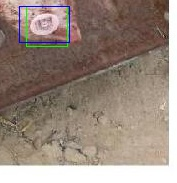text: (26, 6, 67, 46)
